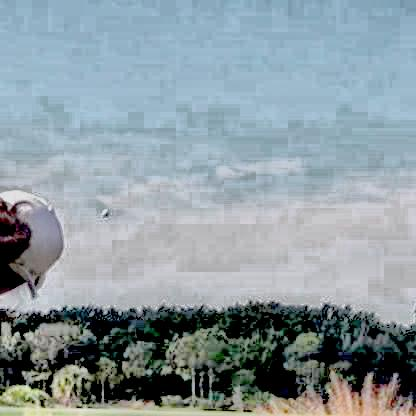golfball: (98, 205, 108, 214)
